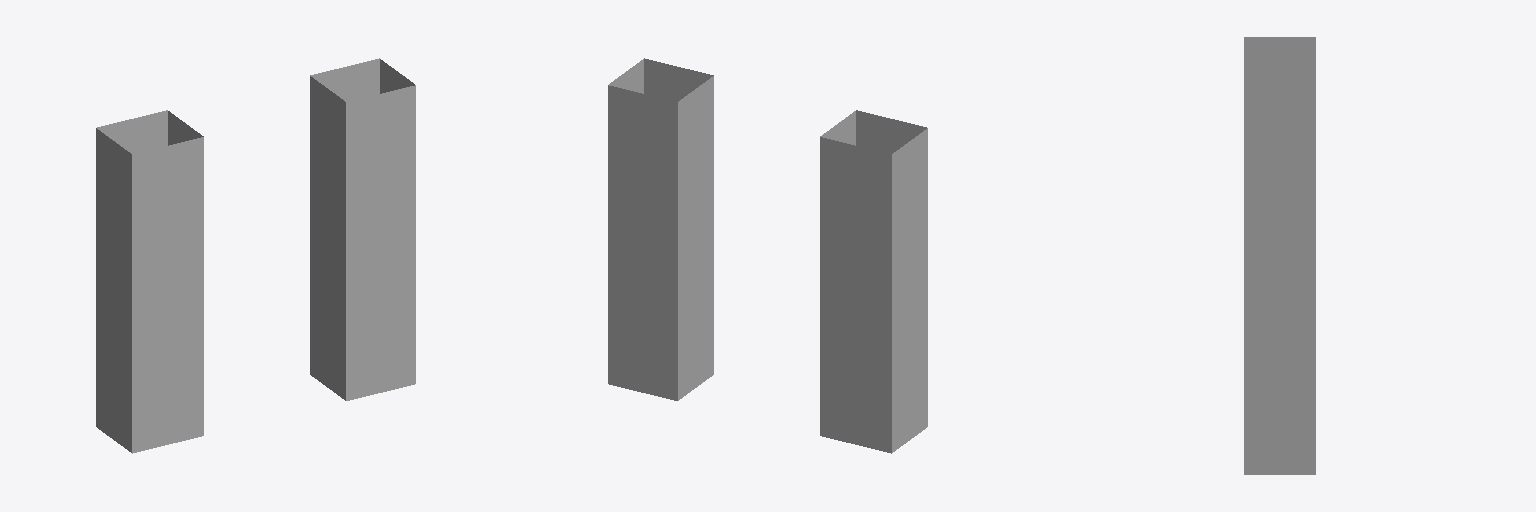
Rendered from arco1.obj.
3 views of the same model, side by side, from view 1: azimuth 30°, elevation 25°; view 2: azimuth 150°, elevation 25°; view 3: azimuth 270°, elevation 25° (orthographic).
Visible parts, largest first — view 1: Cube; view 2: Cube; view 3: Cube.
Part boxes in pixels (bbox=[...]): Cube: bbox=[96, 58, 415, 453]; Cube: bbox=[608, 58, 927, 453]; Cube: bbox=[1244, 37, 1315, 474].
Bounding box in the file's own units: 9 × 9.06 × 2.